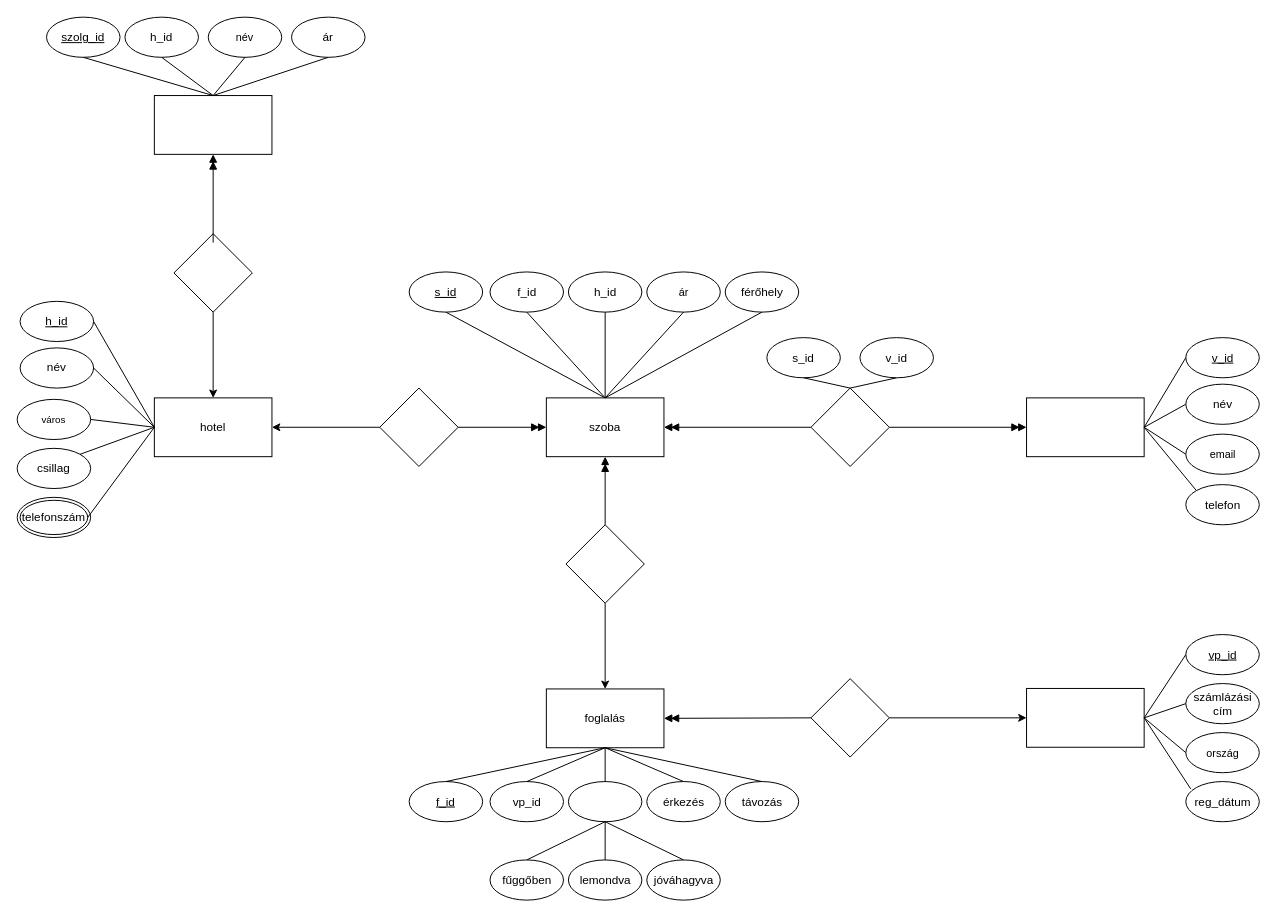
Some shapes in this 1277 by 917 pixel diagram are drawn without their labels. The shapes that lost their labels are listed below. From the top down, each one's centre as x and y in pixels, then its label:
the point at 212,124: szolgáltatás
the point at 212,272: h-szolg
the point at 418,426: h-sz
the point at 849,426: sz-v
the point at 1085,427: vendég
the point at 604,563: sz-f
the point at 849,717: f-v
the point at 1085,717: vendég_profil
the point at 604,801: állapot
